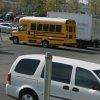Bus: (11, 11, 84, 50)
